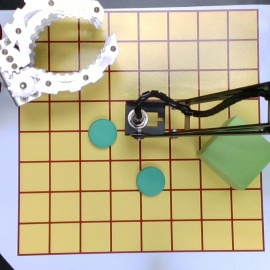green: (88, 119, 117, 148), (136, 166, 164, 196)
